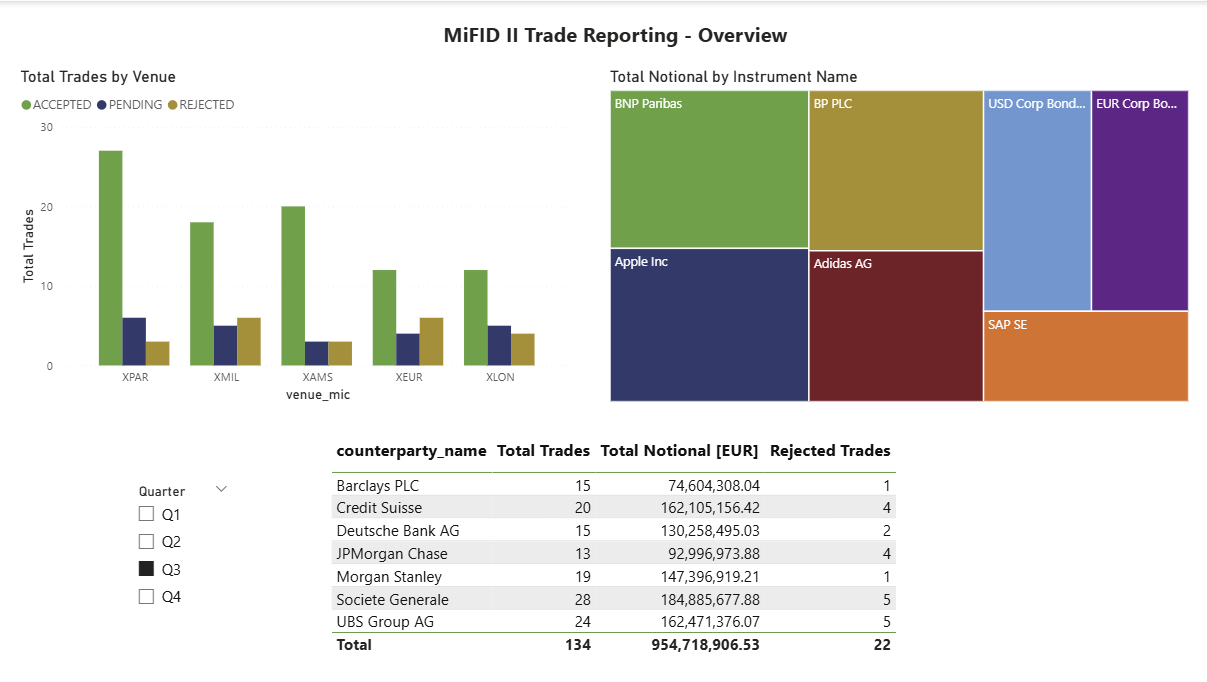

The page's visual inventory and layout, read from the dashboard file:
{"tool":"powerbi","page":{"name":"Venue & Instrument","canvas":[1280,720],"ordinal":2},"visuals":[{"type":"clusteredColumnChart","title":"Total Trades by Venue","fields":{"Category":["synthetic_trades.venue_mic"],"Y":["synthetic_trades.Total Trades"],"Series":["synthetic_trades.reporting_status"]},"box":[20.5,69.5,592.1,356.8],"z":0},{"type":"treemap","title":"Total Notional by Instrument Name","fields":{"Group":["synthetic_trades.instrument_name"],"Values":["synthetic_trades.Total Notional [EUR]"]},"box":[641.1,69.5,619,356.8],"z":1000},{"type":"tableEx","fields":{"Values":["synthetic_trades.counterparty_name","synthetic_trades.Total Trades","synthetic_trades.Total Notional [EUR]","synthetic_trades.Rejected Trades"]},"box":[347.7,455.4,635,243.8],"z":2000},{"type":"slicer","fields":{"Values":["DateTable.Quarter"]},"box":[138,502.7,119.1,149.3],"z":3000},{"type":"textbox","box":[465.8,14.2,386.8,53.7],"z":4000}]}

Visuals, with their boxes in screenshot pixels (x1, y1, x2, y2), scaled from the page's 1280x720 canvas onto the 1207x682 screenshot:
"Total Trades by Venue" clusteredColumnChart: detection(19, 66, 578, 404)
"Total Notional by Instrument Name" treemap: detection(605, 66, 1188, 404)
tableEx - synthetic_trades.counterparty_name x synthetic_trades.Total Trades: detection(328, 431, 927, 662)
slicer - DateTable.Quarter: detection(130, 476, 242, 618)
textbox: detection(439, 13, 804, 64)
